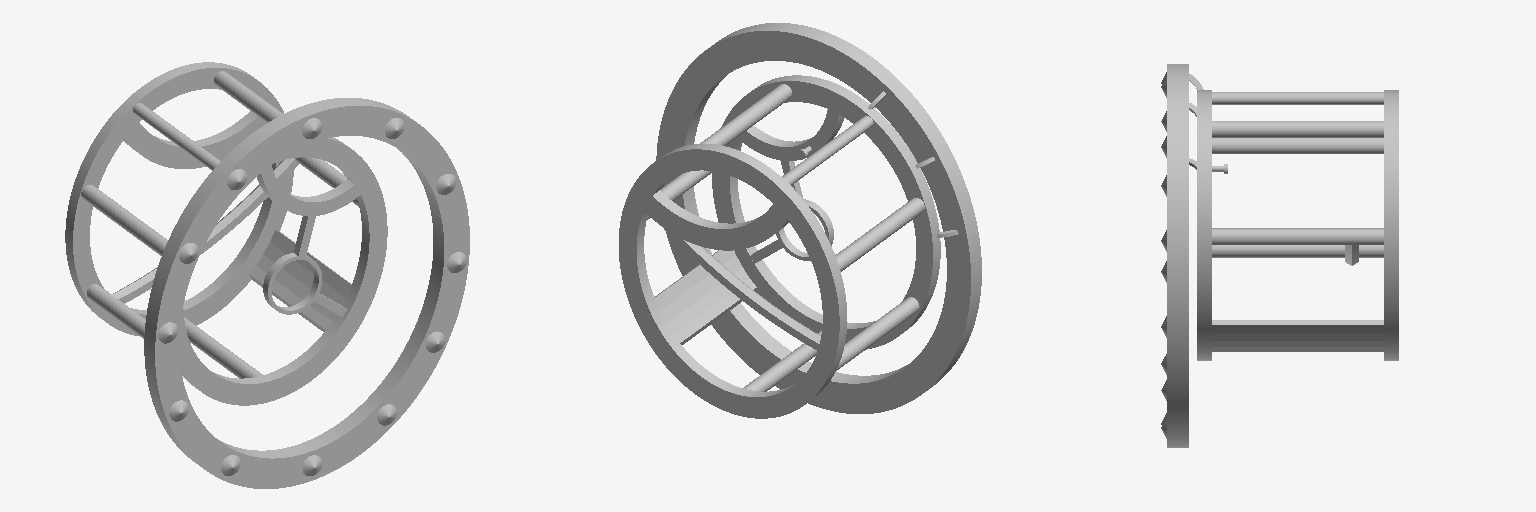
File: clock_body.obj
The picture shows the model from 3 angles: view 1: azimuth 30°, elevation 25°; view 2: azimuth 150°, elevation 25°; view 3: azimuth 270°, elevation 25°; orthographic projection.
Visible parts, largest first — view 1: Cylinder.022_Cylinder, Cylinder.025_Cylinder.024, Cylinder.026_Cylinder.025, Cylinder.008_Cylinder.009, Cylinder.028_Cylinder.027, Cylinder.027_Cylinder.026, Cylinder_Cylinder.020, Torus.004, Cylinder.015_Cylinder.017, Cylinder.013_Cylinder.015, Cylinder.009_Cylinder.011, Cylinder.011_Cylinder.013 (+2 smaller); view 2: Cylinder.022_Cylinder, Cylinder.025_Cylinder.024, Cylinder.026_Cylinder.025, Cylinder.008_Cylinder.009, Cylinder.028_Cylinder.027, Torus.004, Cylinder.027_Cylinder.026, Cylinder.015_Cylinder.017, Cylinder.011_Cylinder.013, Cylinder.014_Cylinder.016, Cylinder.009_Cylinder.011, Cylinder_Cylinder.020 (+2 smaller); view 3: Cylinder.022_Cylinder, Cylinder.008_Cylinder.009, Cylinder.025_Cylinder.024, Cylinder.026_Cylinder.025, Cylinder.011_Cylinder.013, Cylinder.012_Cylinder.014, Cylinder.015_Cylinder.017, Cylinder.009_Cylinder.011, Cylinder.014_Cylinder.016.
Part boxes in pixels (x1,y1,x2,y2): Cylinder.022_Cylinder: (144, 98, 469, 488); Cylinder.025_Cylinder.024: (65, 62, 293, 335); Cylinder.026_Cylinder.025: (179, 137, 387, 405); Cylinder.008_Cylinder.009: (249, 230, 351, 331); Cylinder.028_Cylinder.027: (120, 111, 266, 168); Cylinder.027_Cylinder.026: (257, 165, 367, 215); Cylinder_Cylinder.020: (263, 216, 346, 316); Torus.004: (110, 158, 298, 303); Cylinder.015_Cylinder.017: (81, 185, 167, 255); Cylinder.013_Cylinder.015: (184, 317, 262, 378); Cylinder.009_Cylinder.011: (133, 103, 220, 170); Cylinder.011_Cylinder.013: (214, 71, 282, 122); Cylinder.022_Cylinder: (656, 23, 981, 413); Cylinder.025_Cylinder.024: (619, 144, 846, 418); Cylinder.026_Cylinder.025: (712, 75, 940, 349); Cylinder.008_Cylinder.009: (654, 250, 756, 344); Cylinder.028_Cylinder.027: (644, 190, 788, 250); Torus.004: (664, 228, 820, 350); Cylinder.027_Cylinder.026: (739, 109, 843, 160); Cylinder.015_Cylinder.017: (835, 198, 924, 271); Cylinder.011_Cylinder.013: (700, 84, 791, 145); Cylinder.014_Cylinder.016: (836, 297, 919, 370); Cylinder.009_Cylinder.011: (782, 116, 873, 185); Cylinder_Cylinder.020: (750, 160, 833, 263); Cylinder.022_Cylinder: (1167, 64, 1188, 447); Cylinder.008_Cylinder.009: (1212, 320, 1383, 351); Cylinder.025_Cylinder.024: (1384, 90, 1398, 360); Cylinder.026_Cylinder.025: (1197, 90, 1211, 360); Cylinder.011_Cylinder.013: (1212, 121, 1383, 137); Cylinder.012_Cylinder.014: (1212, 228, 1383, 244); Cylinder.015_Cylinder.017: (1212, 138, 1383, 153); Cylinder.009_Cylinder.011: (1212, 92, 1383, 104); Cylinder.014_Cylinder.016: (1212, 245, 1383, 257).
Size of the model in its own units: 3.81 by 4.26 by 2.5.